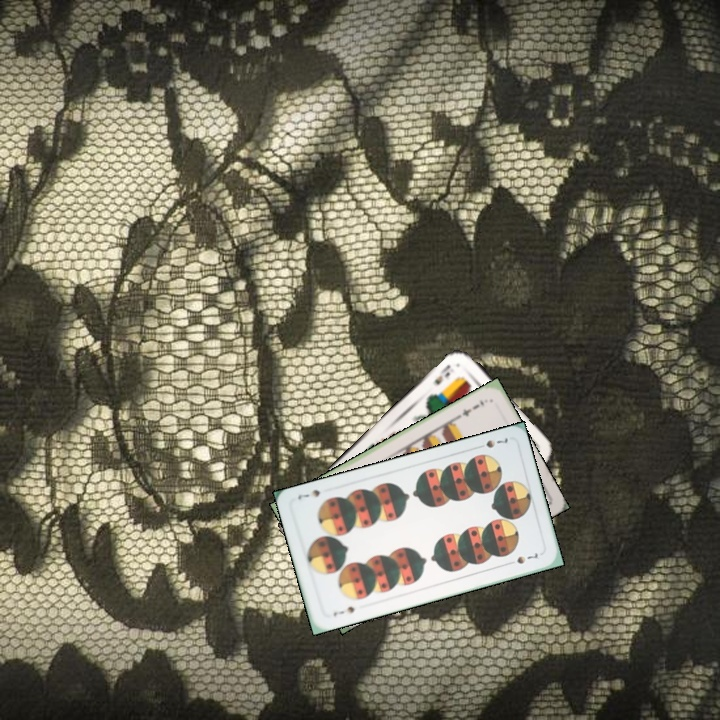E7: (454, 395, 487, 421)
EK: (430, 360, 453, 387)
S7: (472, 434, 511, 451), (329, 602, 357, 619)
